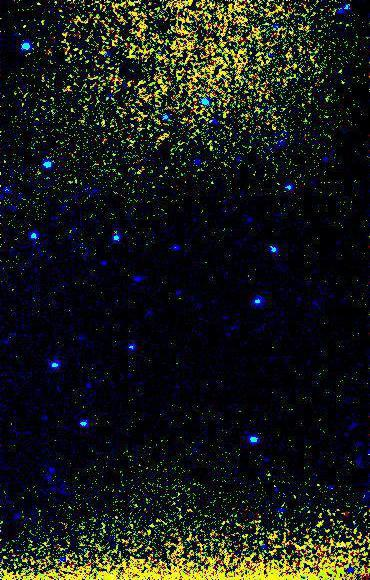star: (257, 111, 287, 141)
